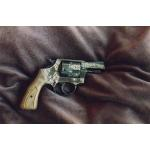Pistol: (19, 58, 107, 110)
